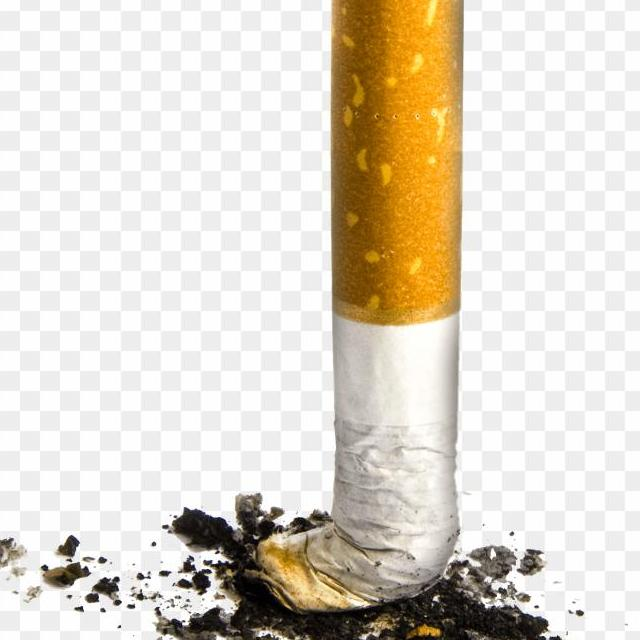Cigarette Butt: (244, 0, 479, 626)
